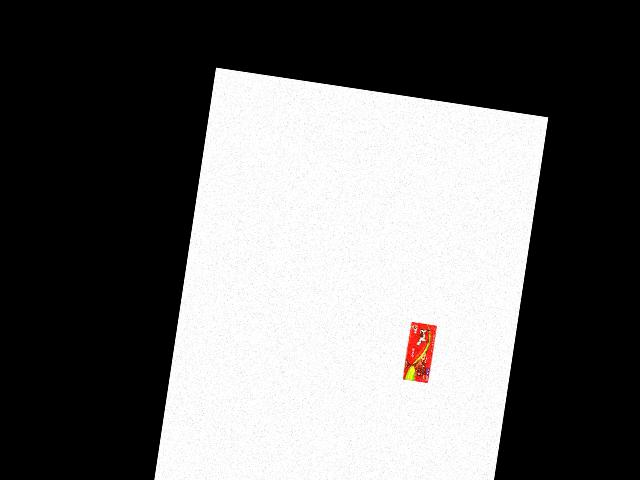chocolate: (400, 317, 442, 385)
